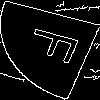F: (24, 25, 92, 69)
